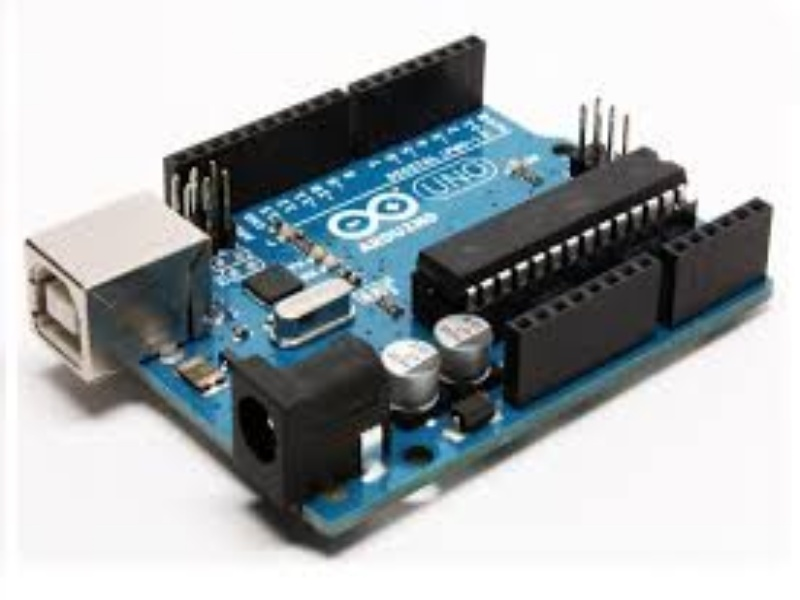uno: (29, 21, 779, 540)
